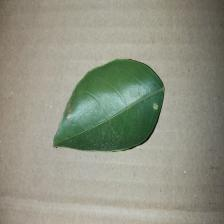healthy: (52, 55, 166, 156)
